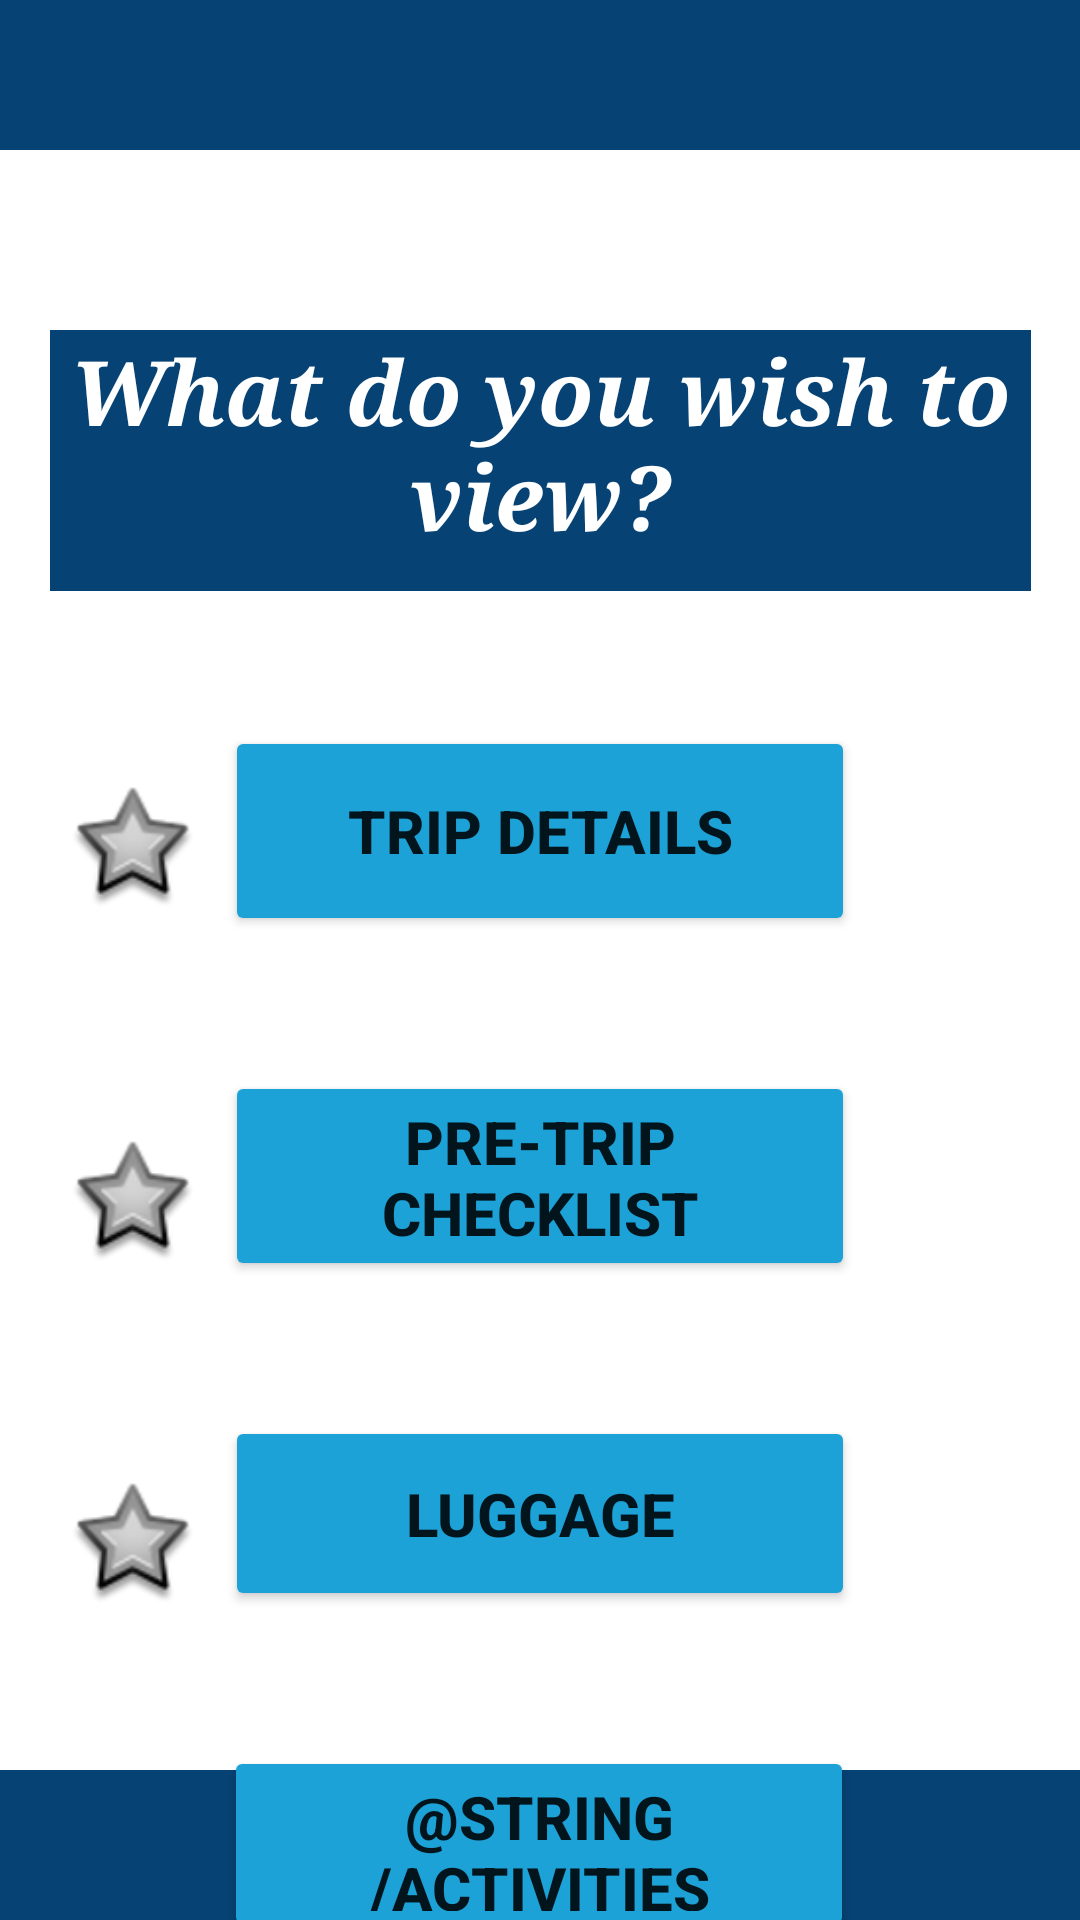

Where icons sit on this 1080px×1920px app screen, as (x1, y1, x2, y2):
Star image: (77, 788, 189, 902), (77, 1142, 189, 1256), (77, 1484, 189, 1598)
